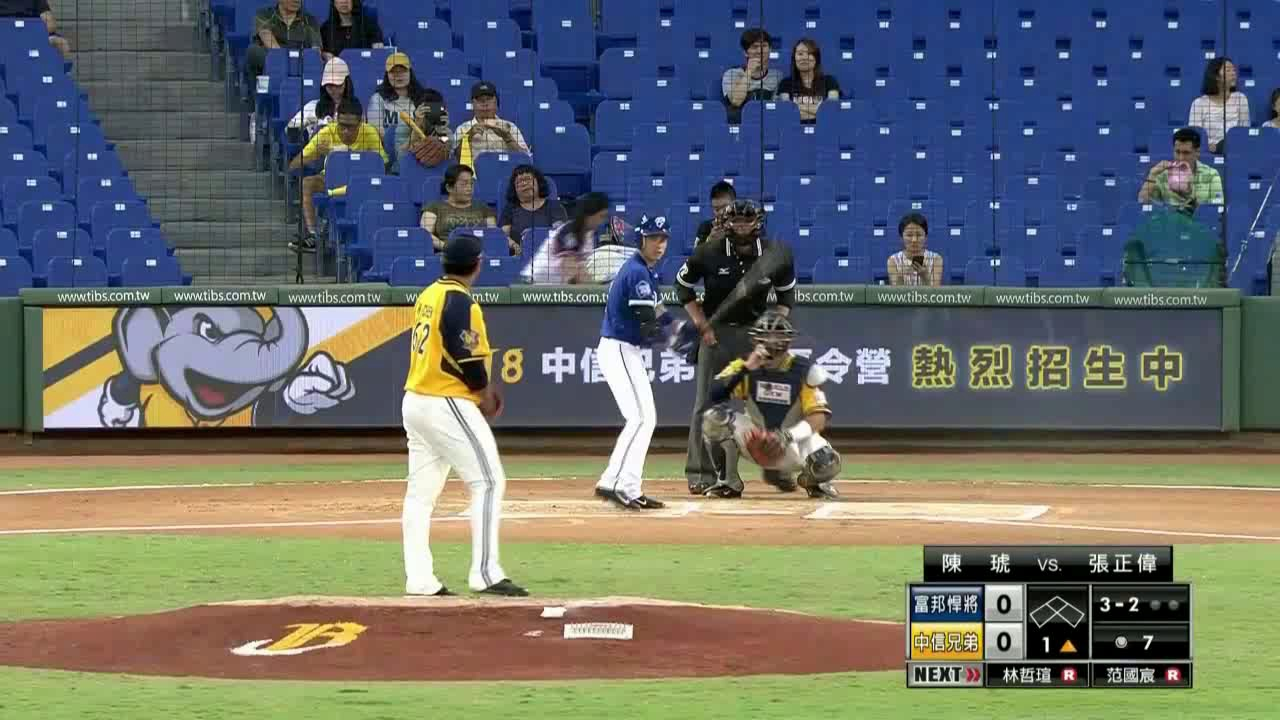base: (1025, 589, 1082, 631)
bat: (700, 244, 785, 331)
out: (1147, 596, 1185, 618)
score1: (988, 588, 1017, 618)
score2: (986, 629, 1026, 655)
session: (1030, 634, 1083, 656)
strikeball: (1092, 585, 1142, 618)
total: (1105, 627, 1167, 654)
